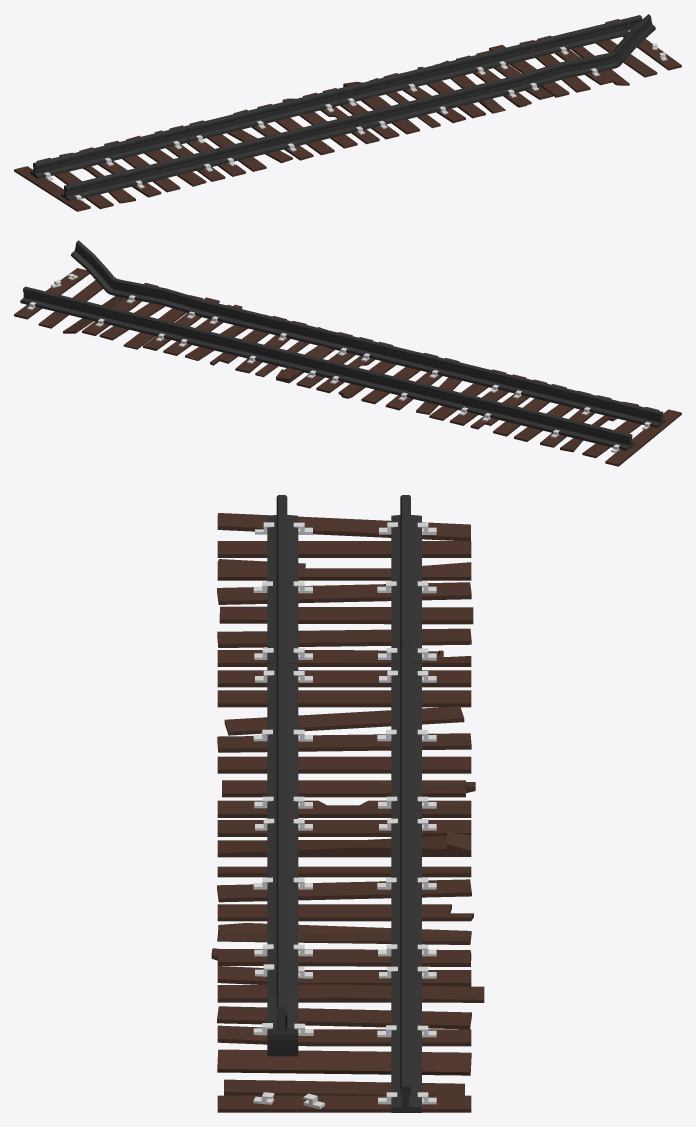
File: tory_zniszczone.fbx
3 views of the same model, one above another, from view 1: azimuth 30°, elevation 25°; view 2: azimuth 150°, elevation 25°; view 3: azimuth 270°, elevation 25° (orthographic). The views are drawn at different scales.
Parts seen in each view (by area): view 1: Cube.071; view 2: Cube.071; view 3: Cube.071.
Part boxes in pixels (<box>): Cube.071: <box>14,14,681,211</box>; Cube.071: <box>14,240,681,466</box>; Cube.071: <box>211,495,484,1112</box>.
Bounding box in the file's own units: 10.55 × 0.8319 × 2.04.
